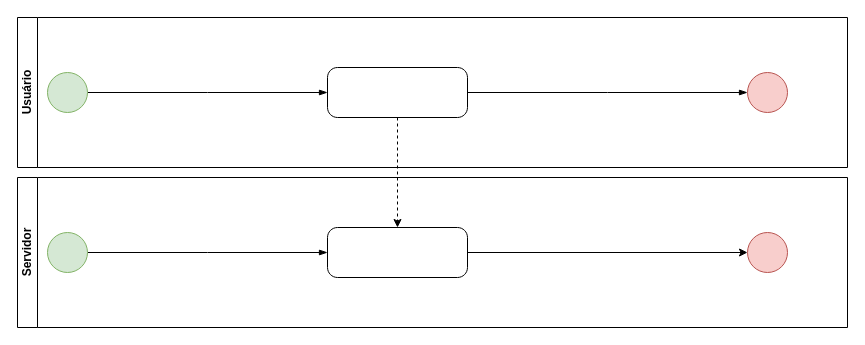
Image size: 865x345. Some labels were removed from this diagram. The shapes that lost their labels are listed below. From the top down, each one's centre as x and y in pixels, then its label:
At (x=397, y=92): "Inserir Informações".
At (x=397, y=252): "Cadastrar Informações".
